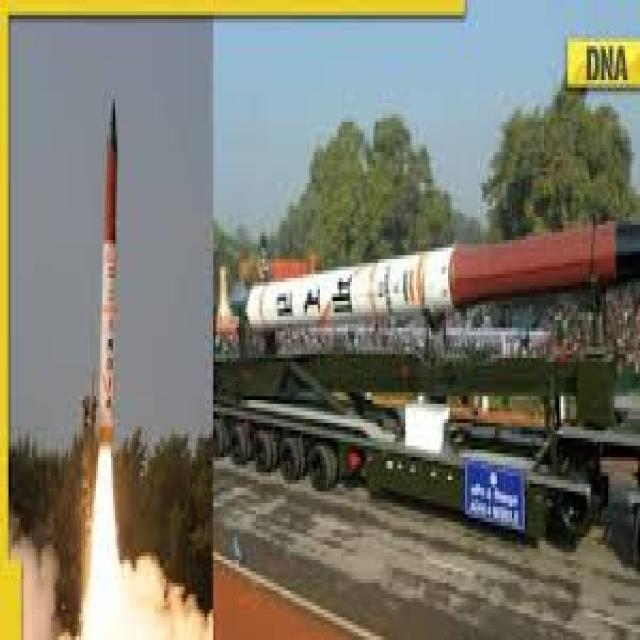missile: (208, 205, 640, 349), (92, 62, 125, 457)
